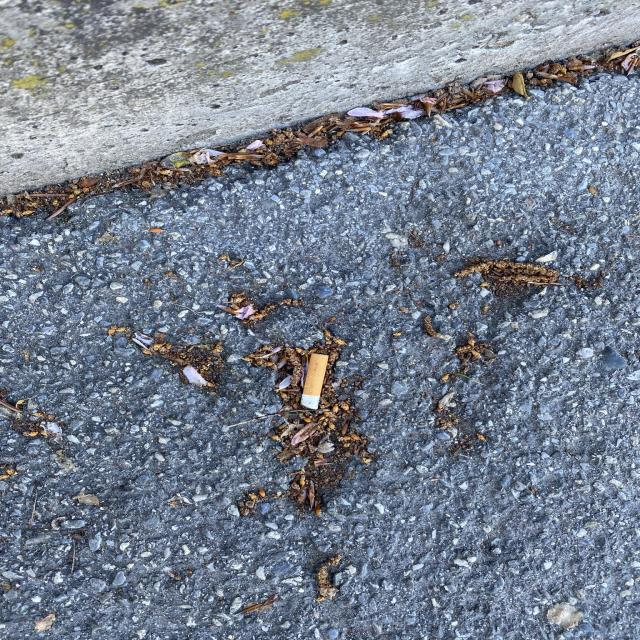other waste: (300, 354, 328, 410)
